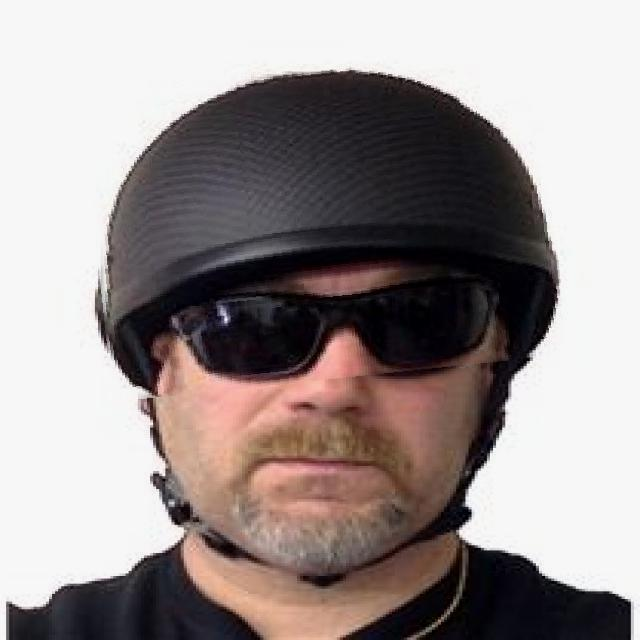helmet: (88, 58, 560, 390)
